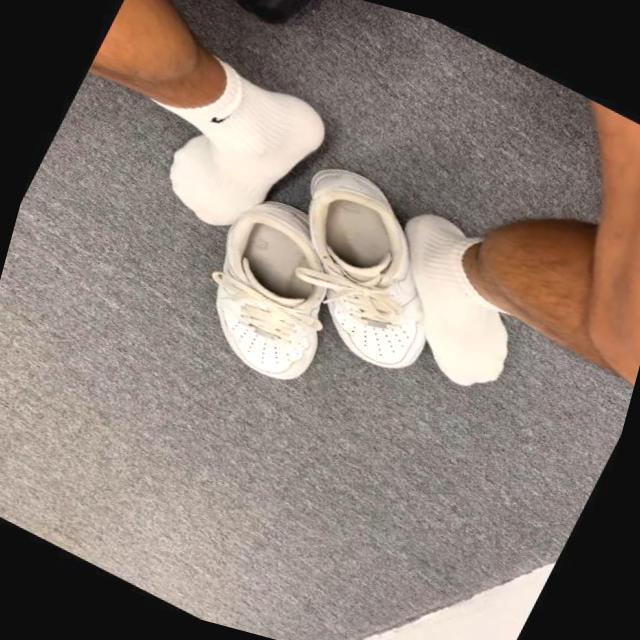nike_original_airforce: (244, 140, 503, 392), (164, 176, 384, 406)
